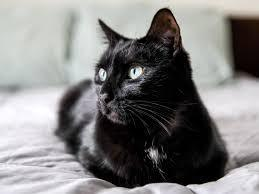Cat: (90, 6, 193, 122)
